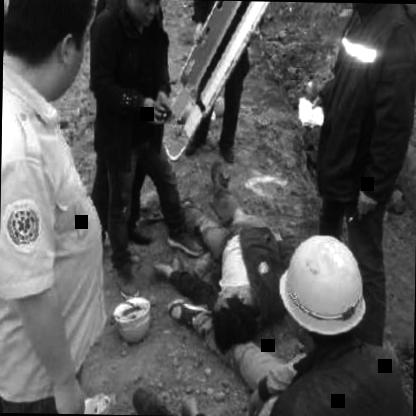helmet: (258, 218, 374, 370)
